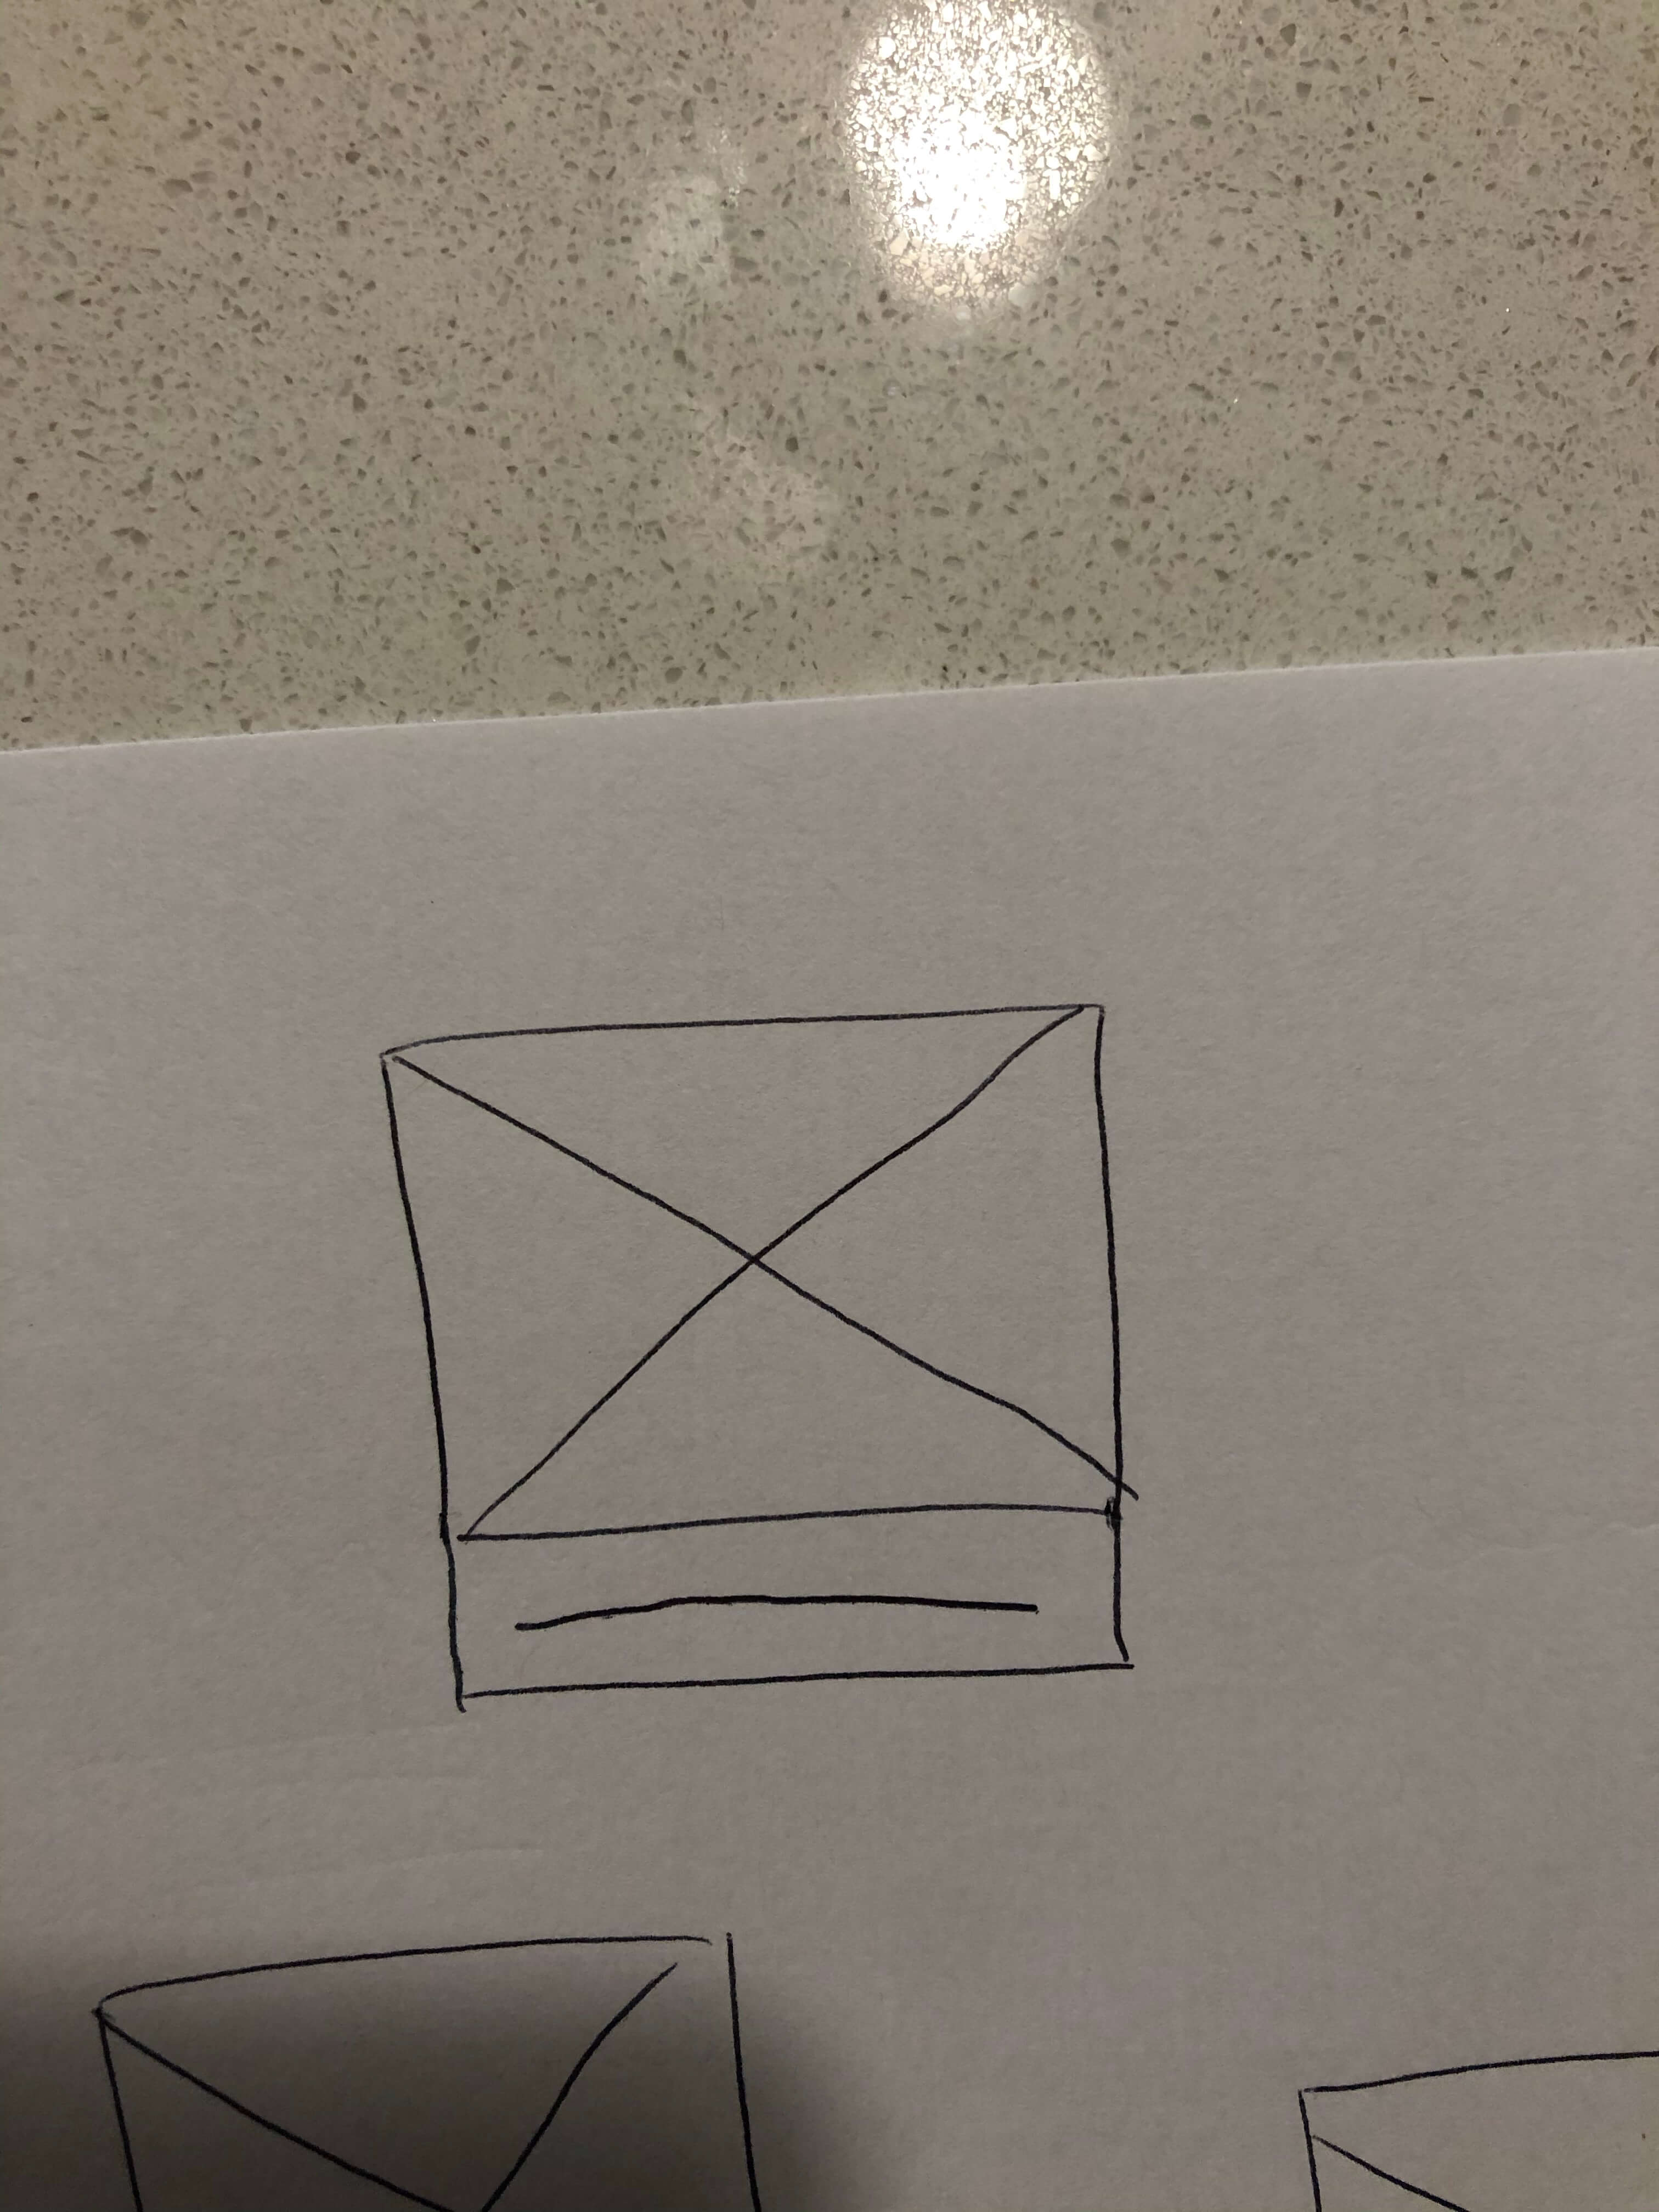card: (354, 977, 1171, 1742)
